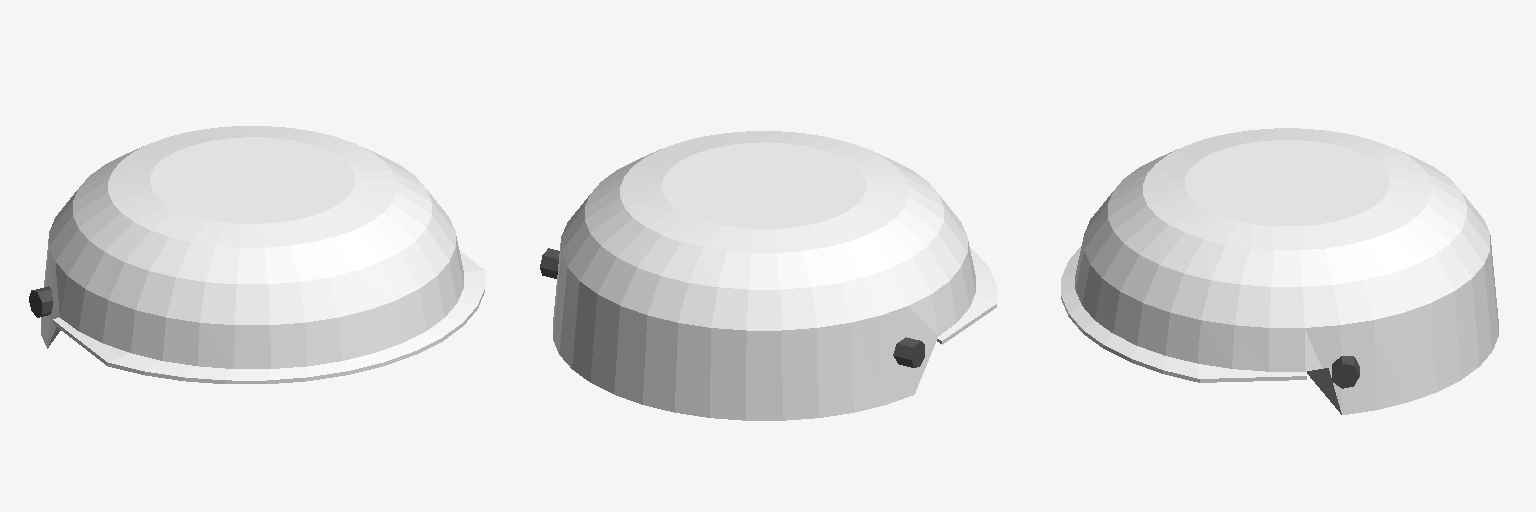
The model's file is helmat.obj.
3 views of the same model, side by side, from view 1: azimuth 30°, elevation 25°; view 2: azimuth 150°, elevation 25°; view 3: azimuth 270°, elevation 25° (orthographic).
Bounding box in the file's own units: 0.2886 × 0.1064 × 0.2895.